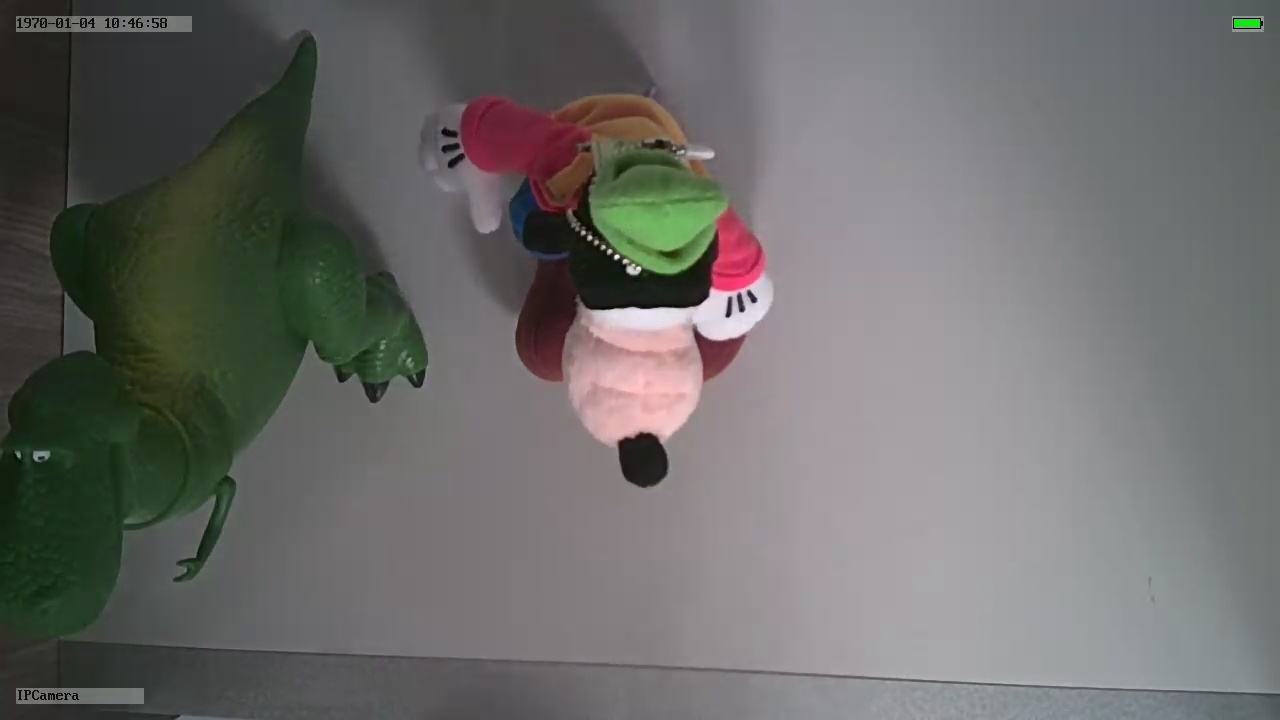goofy: (416, 92, 776, 487)
rex: (1, 124, 427, 637)
